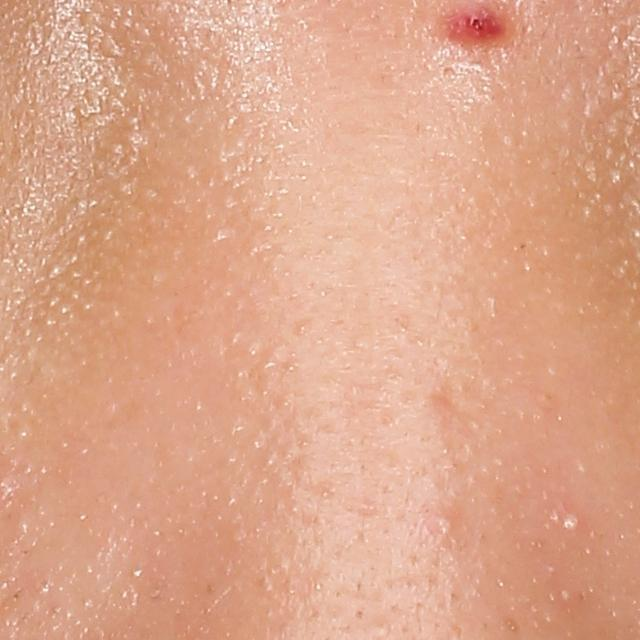papule: (434, 4, 515, 49)
pustule: (555, 508, 584, 538)
